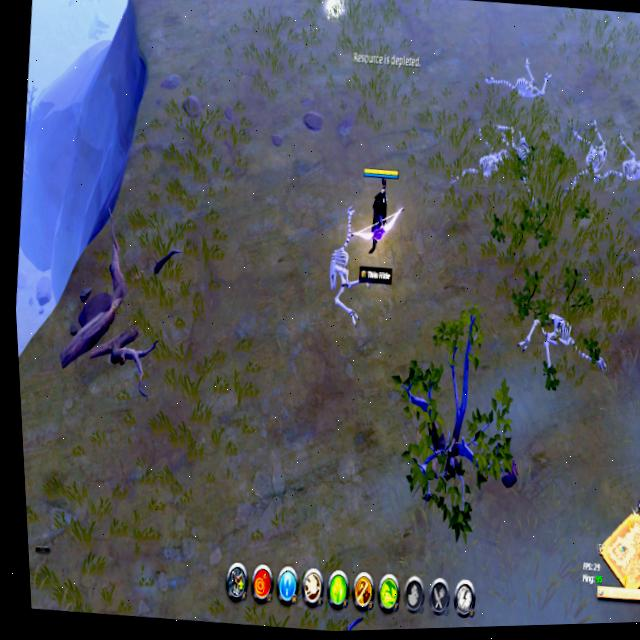red: (355, 160, 406, 247)
stone: (323, 0, 345, 22)
